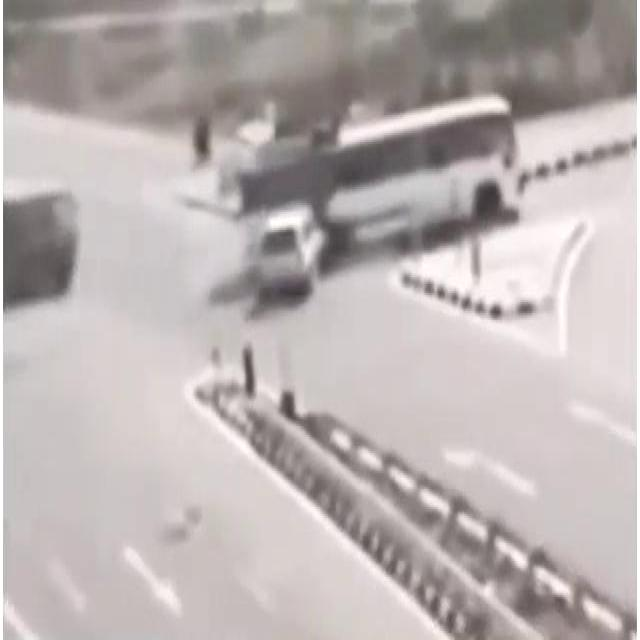accident: (233, 92, 523, 310)
